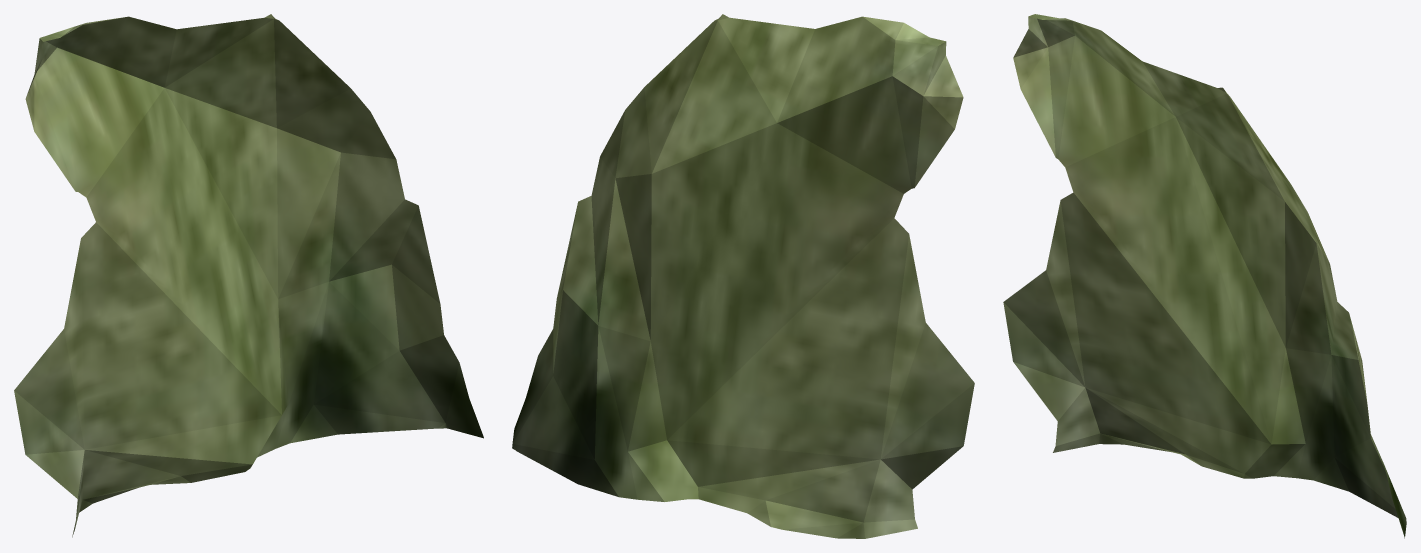
3 views of the same model, side by side, from view 1: azimuth 30°, elevation 25°; view 2: azimuth 150°, elevation 25°; view 3: azimuth 330°, elevation 25° (orthographic). The views are drawn at different scales.
Bounding box in the file's own units: 1.37 × 1.43 × 0.2226.
Materials: 1 (1 with a texture image).
